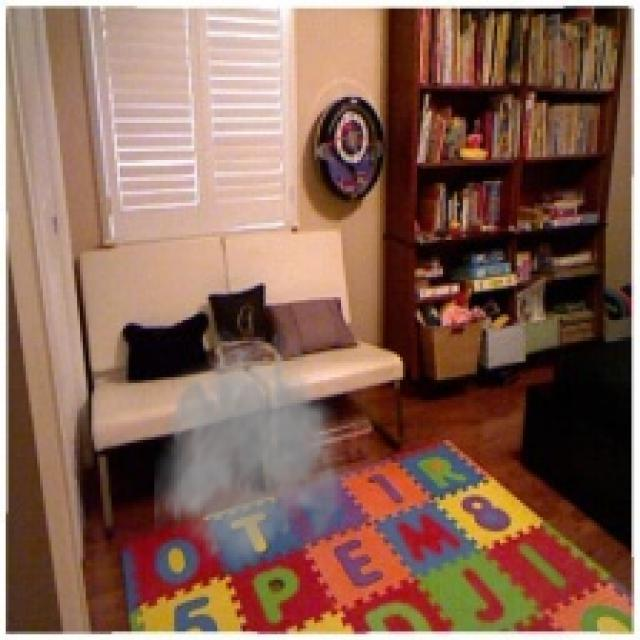Smoke: (154, 323, 357, 574)
